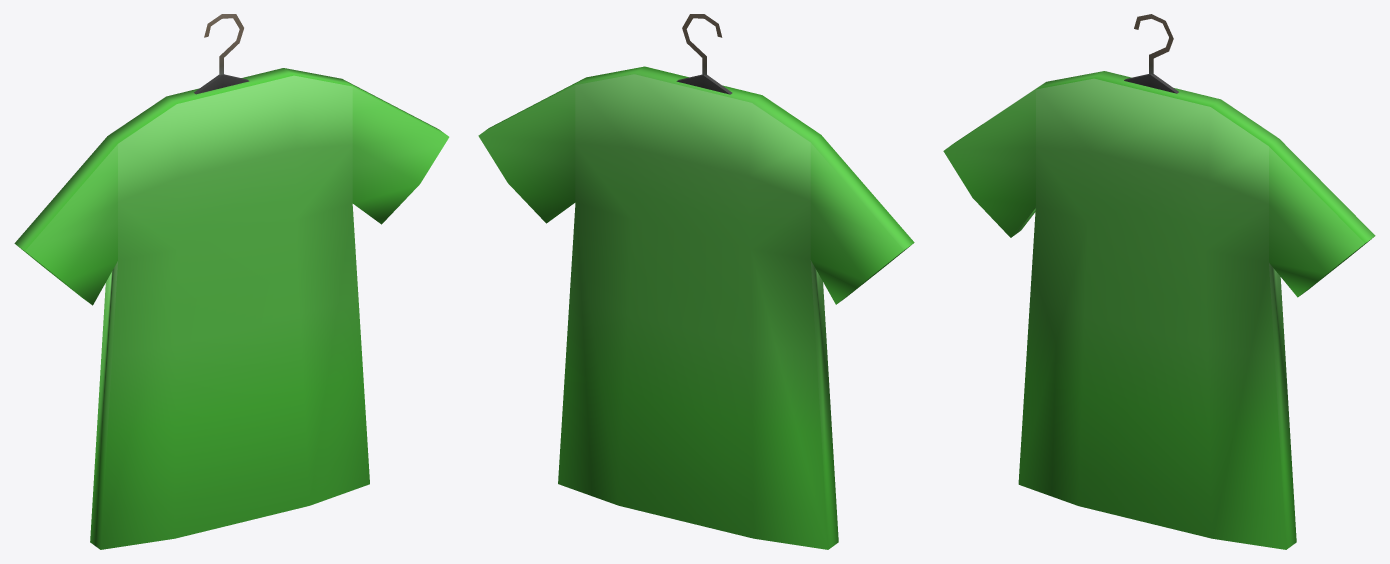
The model's file is Hang_Tshirt_01.fbx.
The picture shows the model from 3 angles, left to right: view 1: azimuth 30°, elevation 25°; view 2: azimuth 150°, elevation 25°; view 3: azimuth 330°, elevation 25°; orthographic projection.
Parts seen in each view (by area): view 1: Hang_Tshirt_01; view 2: Hang_Tshirt_01; view 3: Hang_Tshirt_01.
Part boxes in pixels (bbox=[...]): Hang_Tshirt_01: bbox=[14, 14, 449, 549]; Hang_Tshirt_01: bbox=[478, 14, 914, 549]; Hang_Tshirt_01: bbox=[943, 14, 1375, 549].
Bounding box in the file's own units: 0.2155 × 0.2426 × 0.0216.
